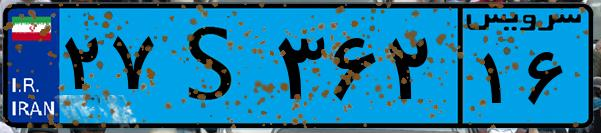1: (475, 38, 525, 113)
2: (385, 28, 445, 110), (57, 26, 110, 100)
3: (270, 28, 330, 110)
6: (330, 28, 385, 110), (525, 38, 570, 115)
7: (110, 28, 158, 98)
S: (158, 12, 270, 120)
